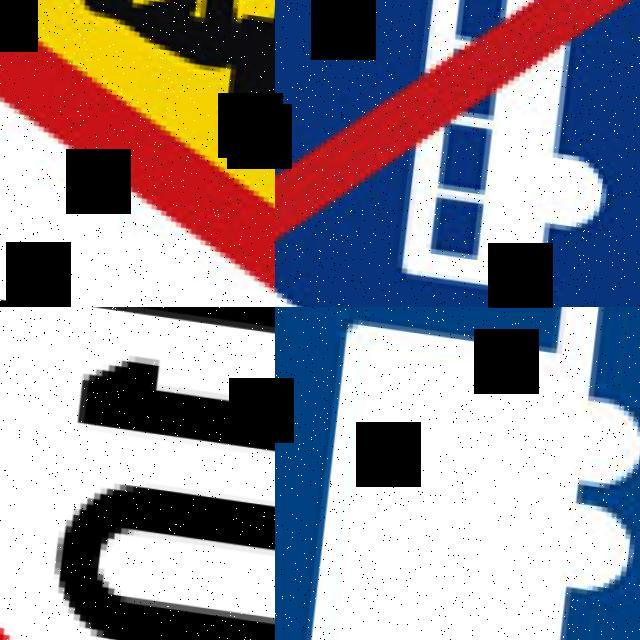69: (275, 307, 640, 640)
End of lane reserved for public transport: (275, 0, 640, 307)
snowmobiles: (0, 0, 275, 307)
speed limit-110: (0, 307, 275, 640)
